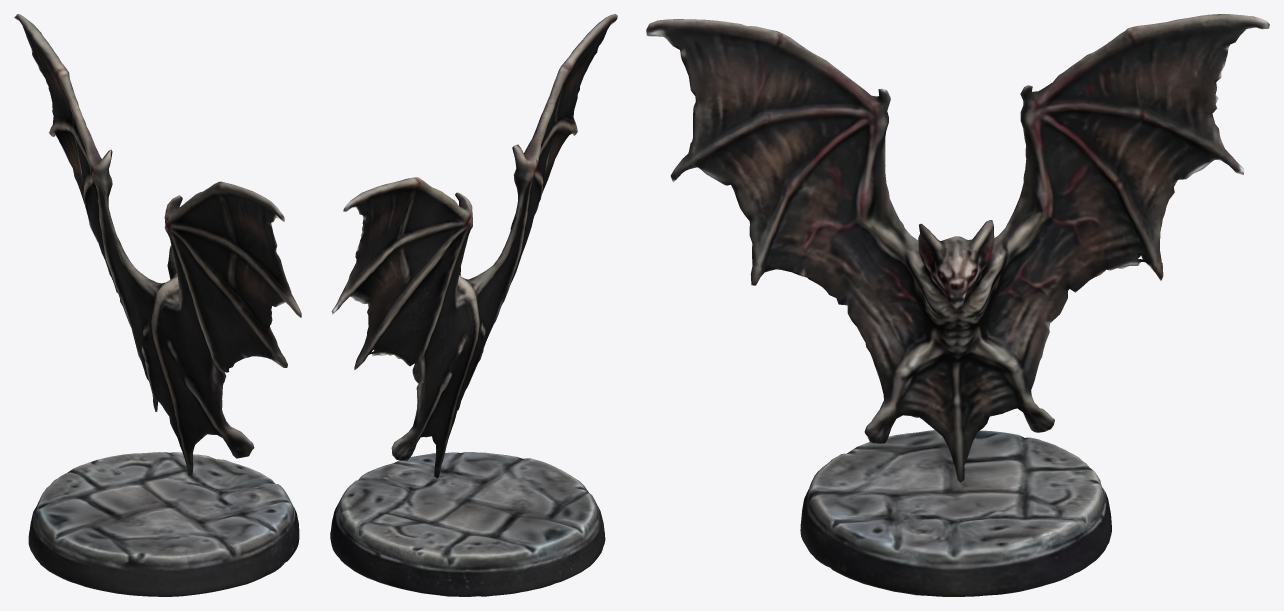
Rendered from vampirebat.glb.
3 views of the same model, side by side, from view 1: azimuth 30°, elevation 25°; view 2: azimuth 150°, elevation 25°; view 3: azimuth 270°, elevation 25° (orthographic). The views are drawn at different scales.
Visible parts, largest first — view 1: lagrange_node; view 2: lagrange_node; view 3: lagrange_node.
Part boxes in pixels (left/top/right/bottom): lagrange_node: left=14, top=14, right=301, bottom=596; lagrange_node: left=330, top=14, right=617, bottom=596; lagrange_node: left=646, top=14, right=1269, bottom=596.
Size of the model in its own units: 1.12 by 1.97 by 2.18.
Materials: 1 (1 with a texture image).
